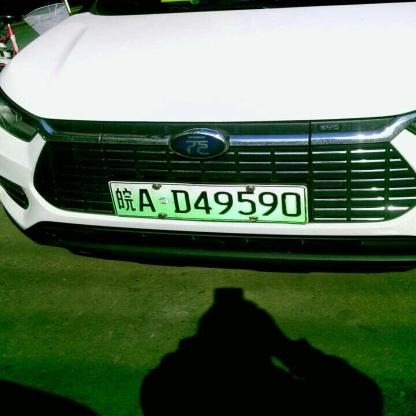lp: (109, 181, 305, 220)
